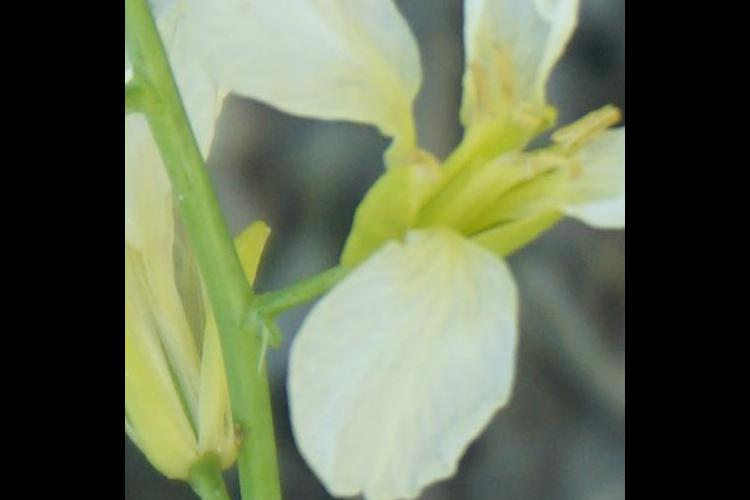white: (196, 1, 626, 489), (131, 1, 244, 481)
